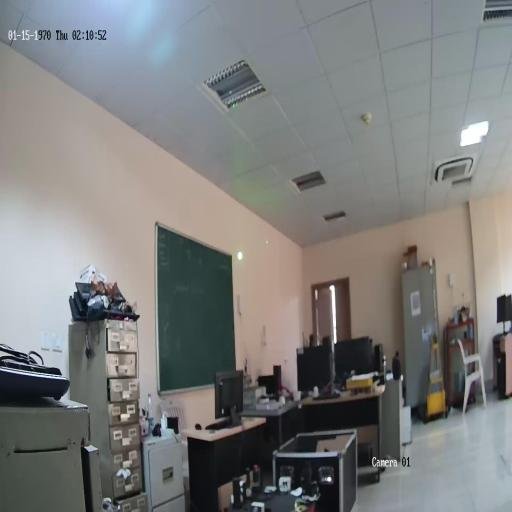laser: (237, 250, 243, 262)
